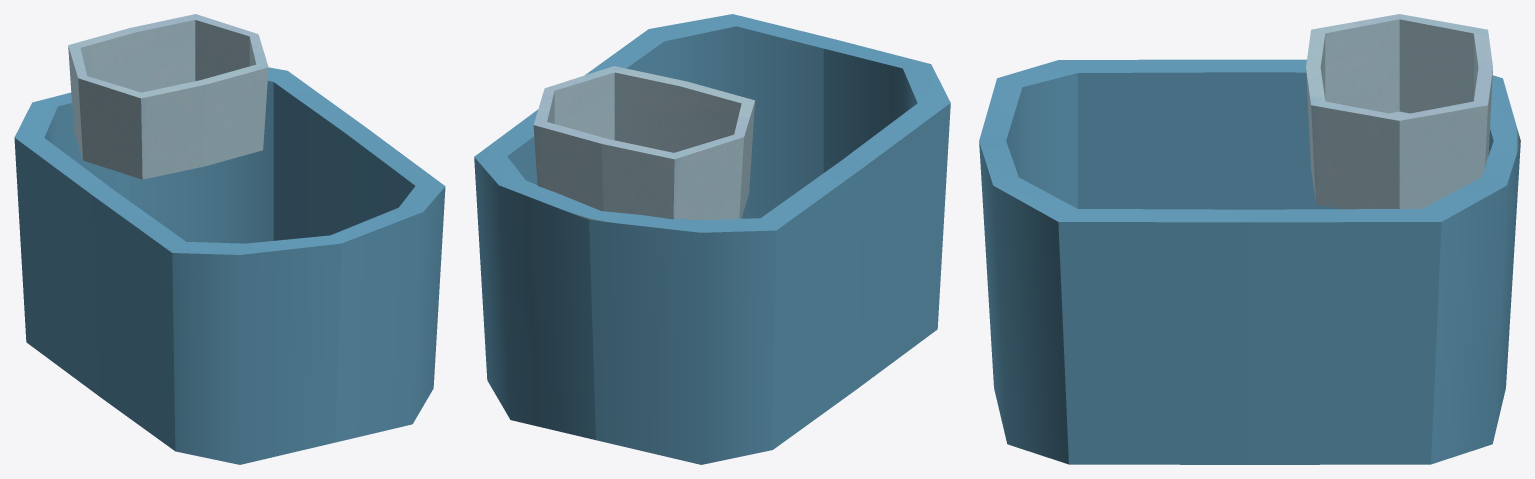
Rendered from FBX_Model_MABacklog_MopBucket_Blue.fbx.
3 views of the same model, side by side, from view 1: azimuth 30°, elevation 25°; view 2: azimuth 150°, elevation 25°; view 3: azimuth 270°, elevation 25° (orthographic). The views are drawn at different scales.
Visible parts, largest first — view 1: pCylinder1, pCylinder2; view 2: pCylinder1, pCylinder2; view 3: pCylinder1, pCylinder2.
Boxes of the visible parts, left/top/right/bottom form: pCylinder1: left=14, top=67, right=445, bottom=464; pCylinder2: left=68, top=14, right=268, bottom=179; pCylinder1: left=474, top=14, right=950, bottom=464; pCylinder2: left=533, top=66, right=755, bottom=220; pCylinder1: left=979, top=59, right=1520, bottom=464; pCylinder2: left=1306, top=14, right=1492, bottom=209.
Bounding box in the file's own units: 7.11 × 6.68 × 10.
Materials: 1 (1 with a texture image).
